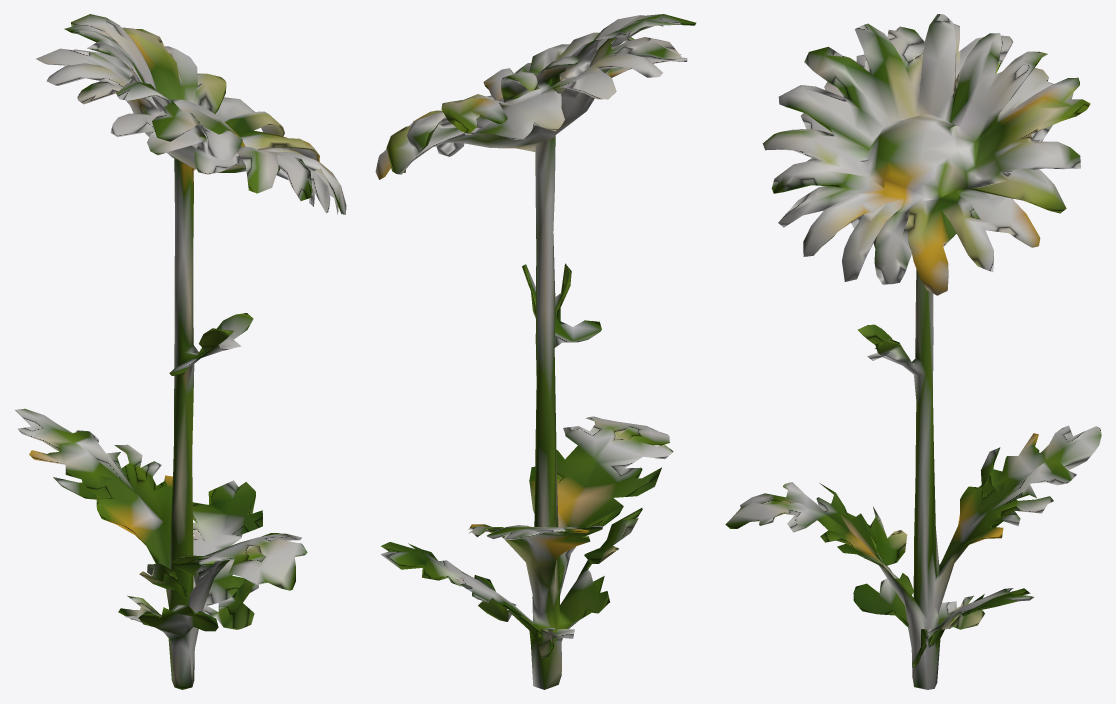
The model's file is margarita.glb.
The picture shows the model from 3 angles, left to right: view 1: azimuth 30°, elevation 25°; view 2: azimuth 150°, elevation 25°; view 3: azimuth 270°, elevation 25°; orthographic projection. The views are drawn at different scales.
Parts seen in each view (by area): view 1: tripo_node_ab44b4a6-08d4-474a-af38-0a9f84c31484; view 2: tripo_node_ab44b4a6-08d4-474a-af38-0a9f84c31484; view 3: tripo_node_ab44b4a6-08d4-474a-af38-0a9f84c31484.
Boxes of the visible parts, x1,y1,x2,y2 form: tripo_node_ab44b4a6-08d4-474a-af38-0a9f84c31484: (15, 14, 346, 689); tripo_node_ab44b4a6-08d4-474a-af38-0a9f84c31484: (375, 14, 696, 689); tripo_node_ab44b4a6-08d4-474a-af38-0a9f84c31484: (725, 14, 1101, 689).
Size of the model in its own units: 0.4149 by 1 by 0.5401.
